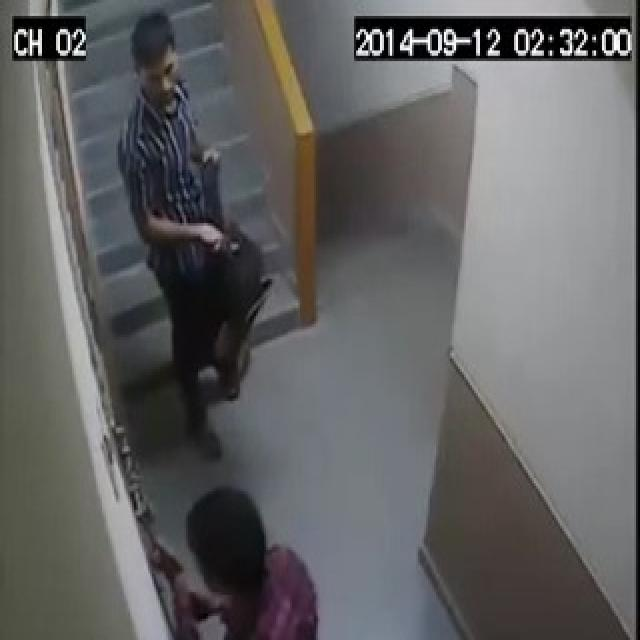thief: (110, 0, 279, 444), (135, 474, 331, 640)
